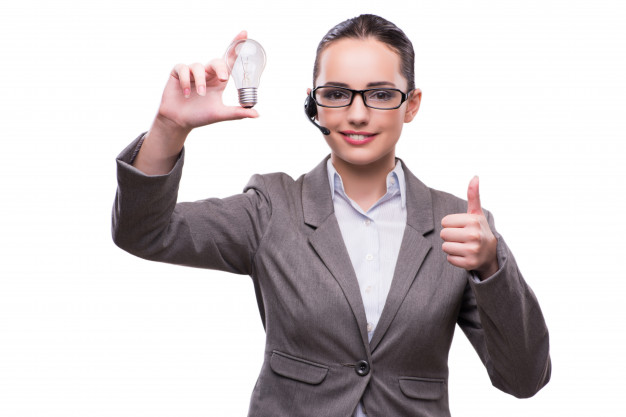thumbsup: (439, 176, 482, 269)
